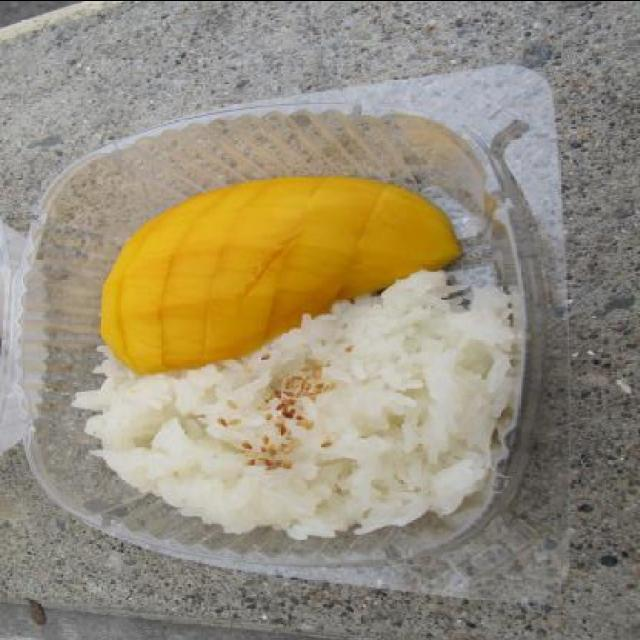Mango: (100, 175, 458, 374)
